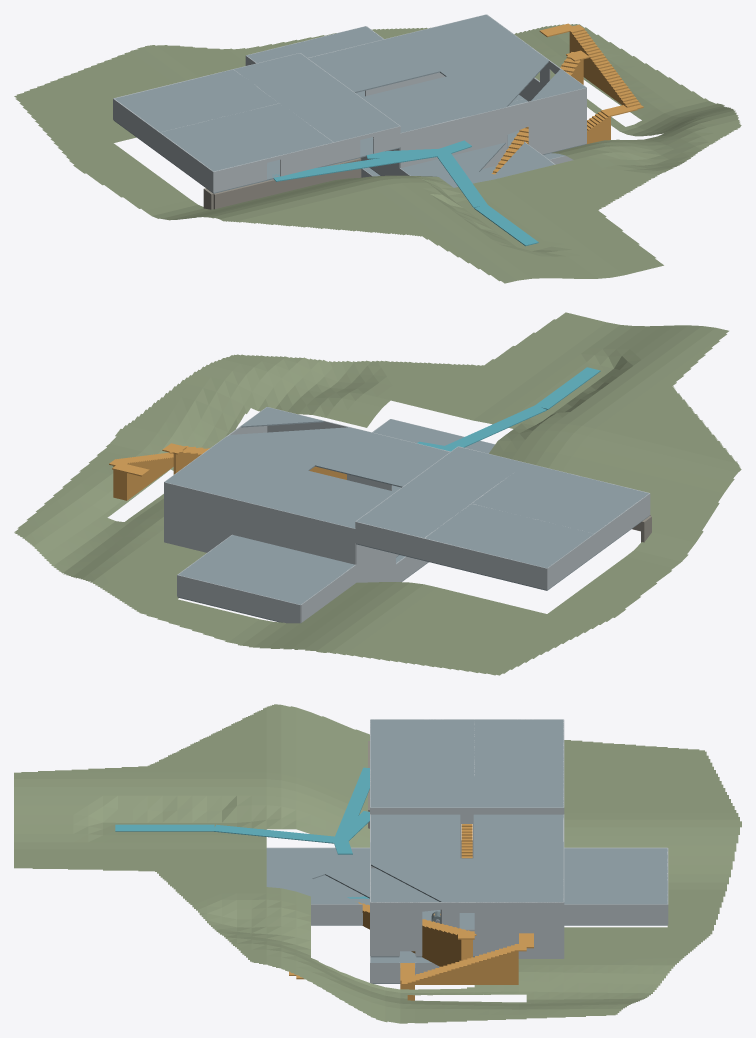
Rendered from cut-terrain.glb.
The picture shows the model from 3 angles, top to bottom: view 1: azimuth 30°, elevation 25°; view 2: azimuth 150°, elevation 25°; view 3: azimuth 270°, elevation 25°; orthographic projection. The views are drawn at different scales.
Parts seen in each view (by area): view 1: Saved editor circulation terrain WLD-09, Ceiling cap west-stair, Ceiling cap control, Opened stair shell Wall turbine S.001, Ceiling cap office, Restored ceiling-cap turbine 0 region0, Ceiling cap turbine.006, Ceiling cap turbine.003, Ceiling cap turbine, Ceiling cap plant, Ceiling cap turbine.004, Flat route shell Bayed shell Wall turbine S (+15 smaller); view 2: Saved editor circulation terrain WLD-09, Ceiling cap west-stair, Ceiling cap control, Ceiling cap plant, Flat route shell Wall turbine N.001, Ceiling cap office, Restored ceiling-cap turbine 0 region0, Ceiling cap turbine.006, Wall office N, Wall plant N, Ceiling cap turbine, Ceiling cap turbine.003 (+12 smaller); view 3: Saved editor circulation terrain WLD-09, Opened stair shell Wall turbine E, Ceiling cap west-stair, Ceiling cap control, Ceiling cap plant, Ceiling cap office, Restored ceiling-cap turbine 0 region0, Ceiling cap turbine.006, Ceiling cap turbine, Ceiling cap turbine.003, Wall plant E, Ceiling cap turbine.004 (+13 smaller).
Part boxes in pixels (x1,y1,x2,y2): Saved editor circulation terrain WLD-09: (14, 24, 741, 283); Ceiling cap west-stair: (234, 53, 399, 142); Ceiling cap control: (160, 103, 332, 171); Opened stair shell Wall turbine S.001: (465, 88, 586, 168); Ceiling cap office: (115, 69, 278, 131); Restored ceiling-cap turbine 0 region0: (409, 54, 548, 119); Ceiling cap turbine.006: (394, 14, 531, 70); Ceiling cap turbine.003: (362, 86, 454, 132); Ceiling cap turbine: (308, 46, 400, 91); Ceiling cap plant: (246, 26, 382, 63); Ceiling cap turbine.004: (355, 37, 438, 79); Flat route shell Bayed shell Wall turbine S: (400, 119, 455, 168); Saved editor circulation terrain WLD-09: (14, 312, 741, 675); Ceiling cap west-stair: (356, 447, 526, 537); Ceiling cap control: (472, 463, 648, 533); Ceiling cap plant: (178, 535, 354, 604); Flat route shell Wall turbine N.001: (164, 482, 288, 550); Ceiling cap office: (425, 504, 593, 567); Restored ceiling-cap turbine 0 region0: (221, 427, 400, 475); Ceiling cap turbine.006: (165, 448, 306, 505); Wall office N: (424, 538, 547, 589); Wall plant N: (177, 575, 300, 623); Ceiling cap turbine: (300, 481, 394, 528); Ceiling cap turbine.003: (355, 440, 449, 485); Saved editor circulation terrain WLD-09: (14, 704, 741, 1023); Opened stair shell Wall turbine E: (370, 902, 563, 956); Ceiling cap west-stair: (370, 776, 563, 807); Ceiling cap control: (370, 719, 474, 776); Ceiling cap plant: (564, 848, 667, 904); Ceiling cap office: (474, 719, 563, 776); Restored ceiling-cap turbine 0 region0: (370, 840, 460, 902); Ceiling cap turbine.006: (475, 858, 563, 902); Ceiling cap turbine: (475, 814, 563, 840); Ceiling cap turbine.003: (370, 814, 458, 840); Wall plant E: (564, 904, 667, 924); Ceiling cap turbine.004: (475, 840, 563, 858).
Bounding box in the file's own units: 85 × 13.16 × 98.
Materials: 33 (17 with a texture image).
